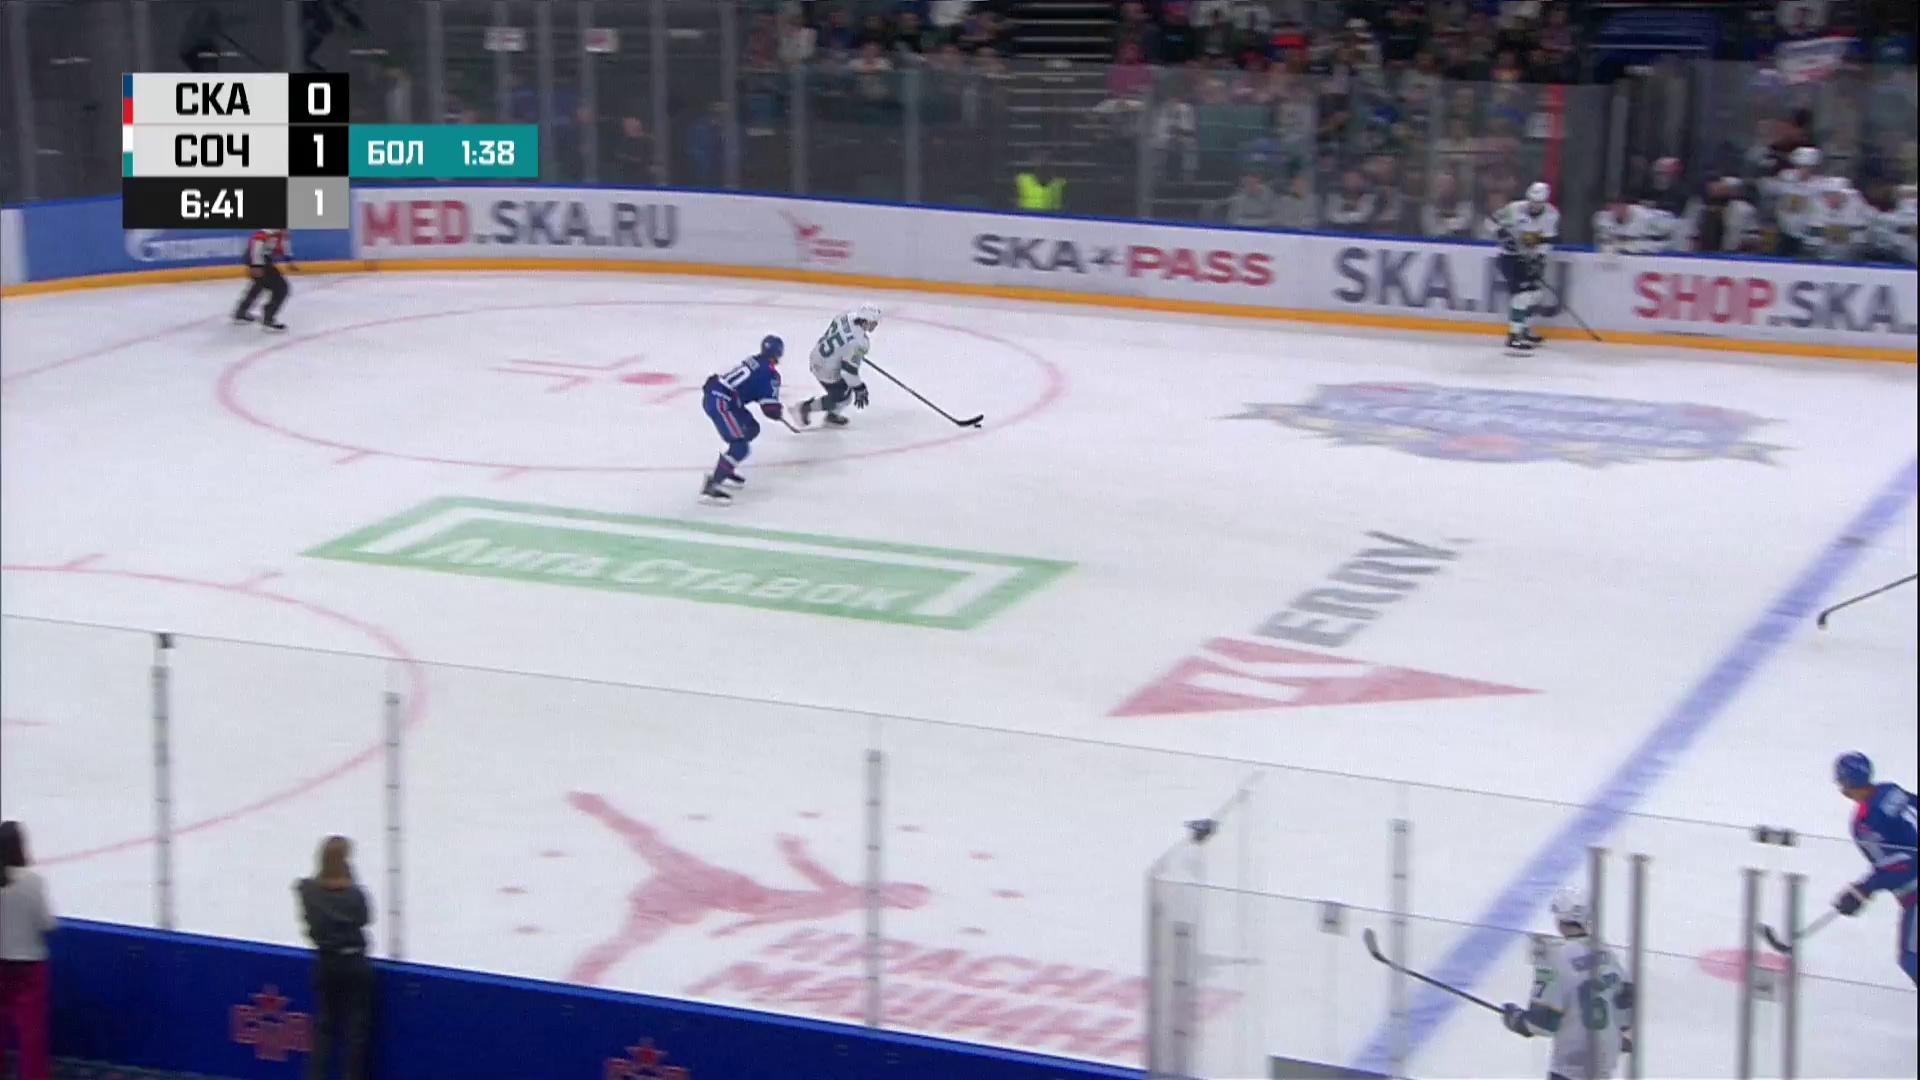ball: (973, 423, 982, 429)
